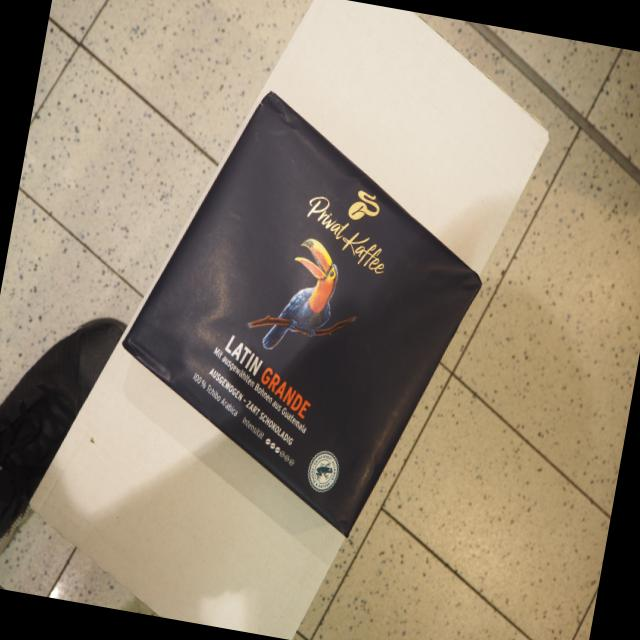LG Gemahlen: (115, 82, 490, 543)
